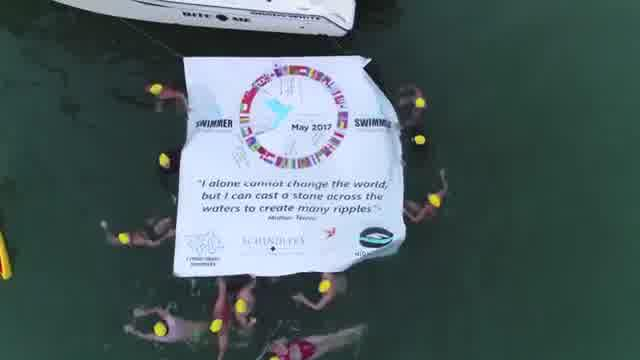human: (112, 304, 206, 356), (264, 325, 379, 360), (401, 164, 453, 231), (96, 215, 180, 250), (288, 263, 338, 314), (205, 273, 234, 359), (138, 83, 198, 118), (389, 77, 429, 129), (231, 279, 260, 334)
